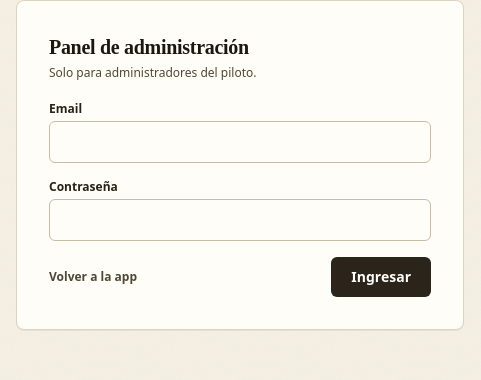
Scenario: AdminView — acceso › credenciales incorrectas → alerta y sigue en el login
Type "admin@ejemplo.com" into the field labelled "Email" at (240, 142), box [49,121,431,163]
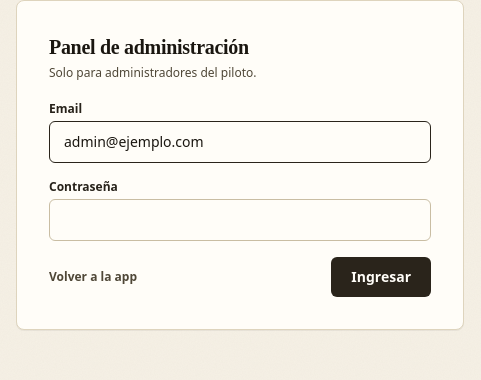
Type "secreta" into the password field labelled "Contraseña" at (240, 220), box [49,199,431,241]
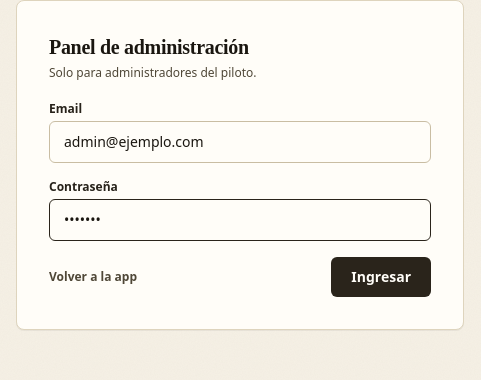
Click the button "Ingresar" at (381, 277), box [331,257,431,297]
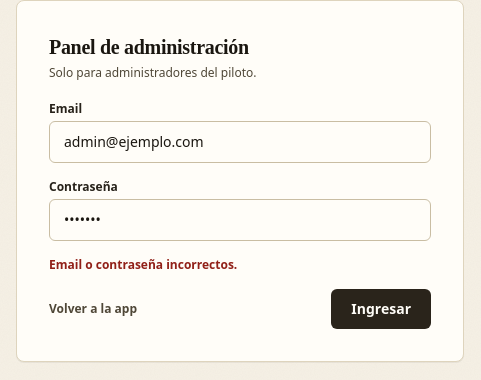
Check: the button "Ingresar" is shown, box [331,289,431,329]
Check: the message reads "Email o contraseña incorrectos.", box [49,256,237,273]
